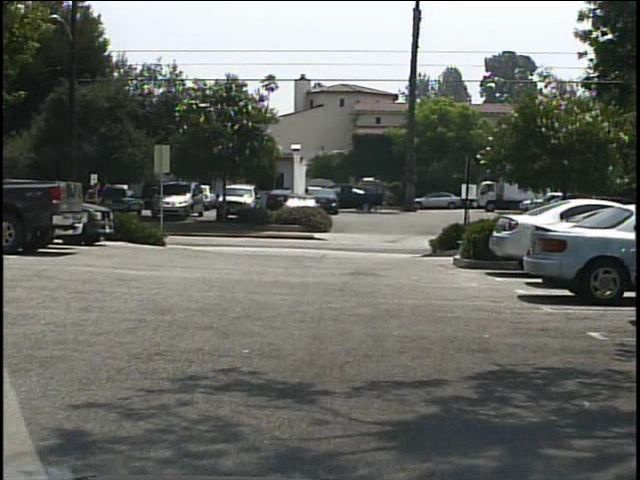person: (84, 182, 108, 244)
